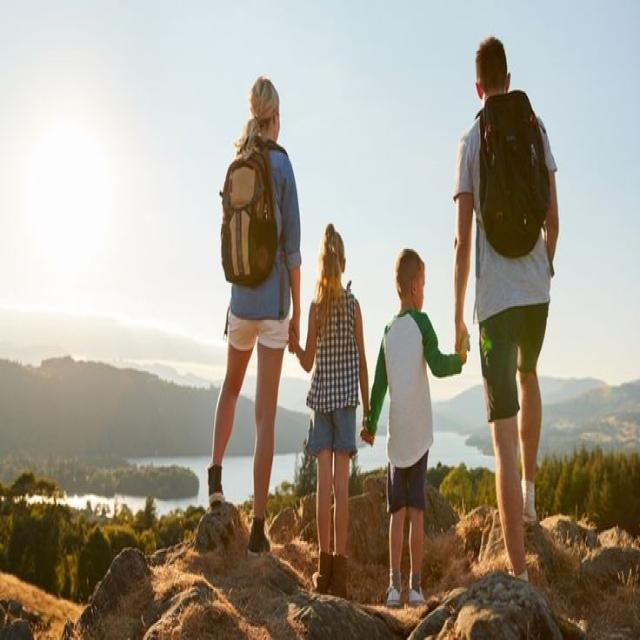bag: (456, 82, 561, 258), (200, 147, 291, 310)
person: (458, 25, 640, 608), (142, 39, 308, 545), (301, 216, 438, 640)
